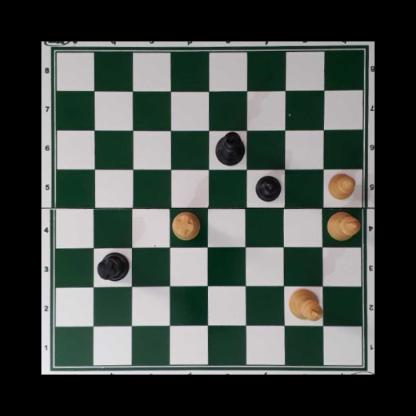black-king: (214, 130, 246, 166)
black-pawn: (255, 174, 281, 202)
black-rook: (97, 252, 130, 282)
white-bishop: (327, 210, 362, 241)
white-king: (288, 288, 323, 321)
white-pawn: (327, 173, 355, 201)
white-rook: (171, 211, 201, 241)
